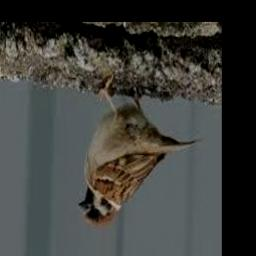Sparrow: (77, 78, 200, 227)
